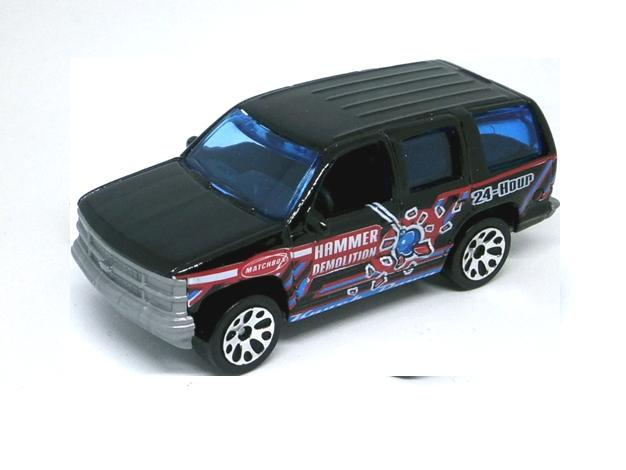toy-car: (70, 58, 560, 376)
